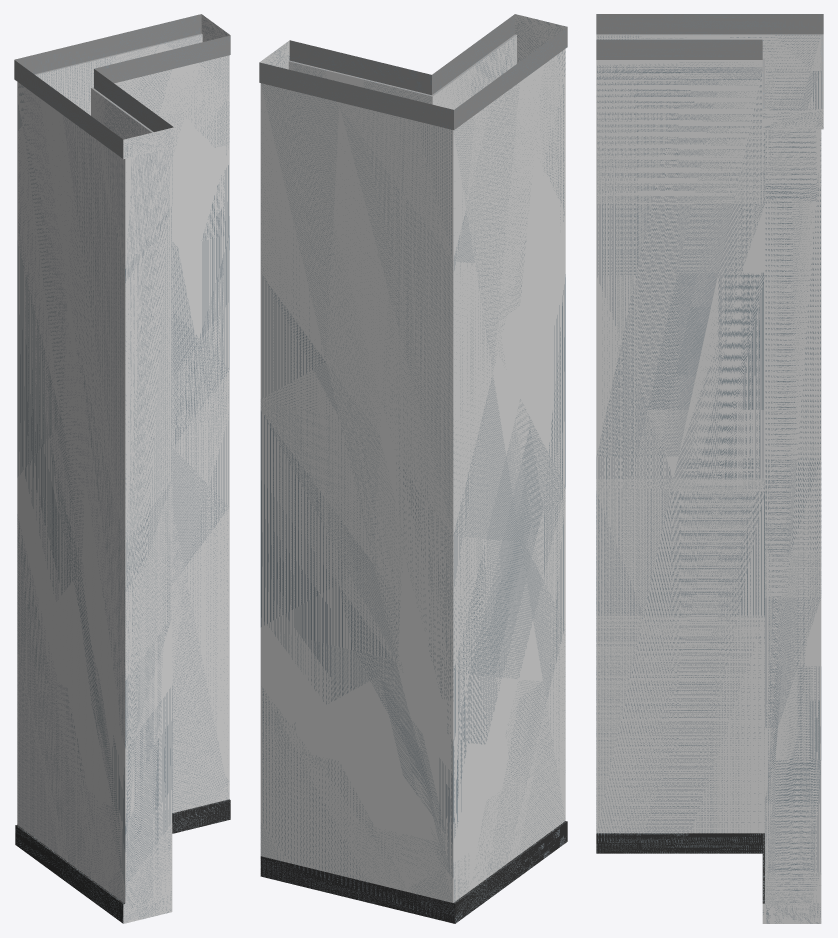
The model's file is Corner_ds_plinth_075x075x025x4.dae.
3 views of the same model, side by side, from view 1: azimuth 30°, elevation 25°; view 2: azimuth 150°, elevation 25°; view 3: azimuth 270°, elevation 25° (orthographic). The views are drawn at different scales.
Visible parts, largest first — view 1: group_0 (×5); view 2: group_0 (×4); view 3: group_0 (×4).
Boxes of the visible parts, box(x1,y1,x2,y2) form: group_0 (×5): box(14, 14, 230, 923); group_0 (×4): box(259, 14, 567, 923); group_0 (×4): box(596, 14, 823, 923).
Size of the model in its own units: 39.37 by 39.76 by 157.
